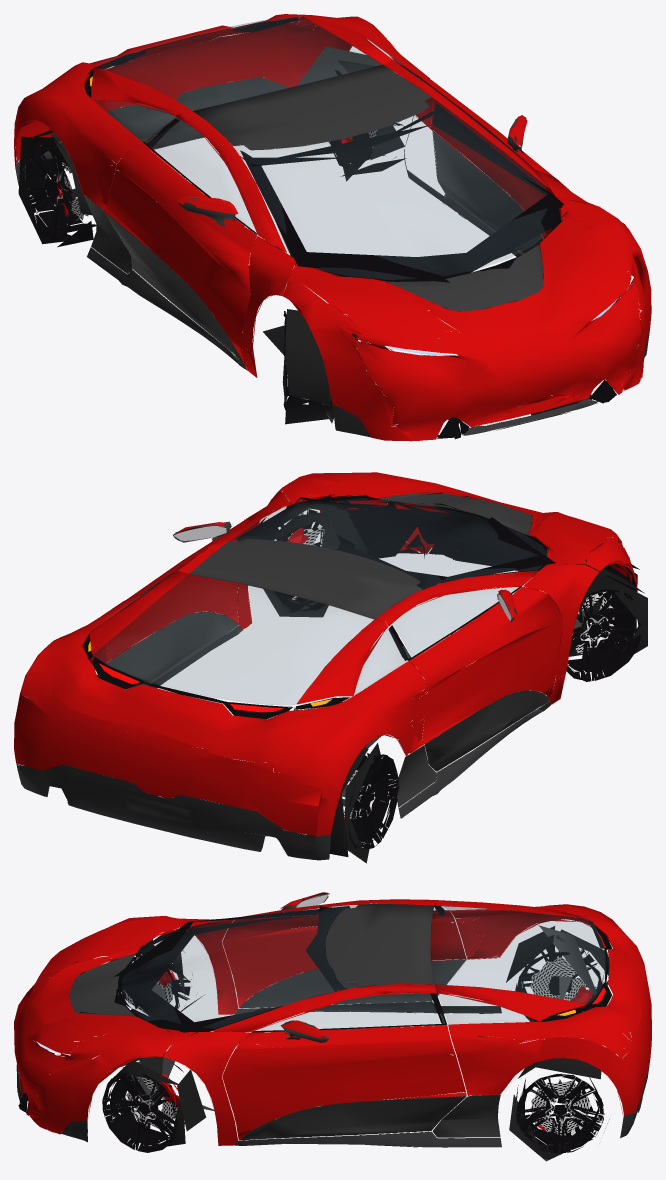
File: car-low.glb
The picture shows the model from 3 angles, top to bottom: view 1: azimuth 30°, elevation 25°; view 2: azimuth 150°, elevation 25°; view 3: azimuth 270°, elevation 25°; orthographic projection. The views are drawn at different scales.
Visible parts, largest first — view 1: BodyHood, BodyWindshield, BodyRearPanelsColor1, BodyRearwindow, BodyDoorRColor1, BodyRoofPanel, BodyWindshieldGasket, BodyPanelsColor2, BodyPillars, BodyHoodTopgrill, BodyDoorLColor2, WheelFrontR (+11 smaller); view 2: BodyRearPanelsColor1, BodyRearwindow, BodyPanelsColor2, BodyWindshield, BodyDoorRColor1, BodyRoofPanel, BodyHood, BodyPillars, BodyHoodInterior01, BodyWindshieldGasket, BodyDoorLColor1, WheelFrontRRim (+12 smaller); view 3: BodyRearPanelsColor1, BodyWindshield, BodyDoorLColor1, BodyHood, BodyRearwindow, BodyPillars, BodyRoofPanel, BodyPanelsColor2, BodyDoorRColor1, BodyWindshieldGasket, BodyDoorLColor2, WheelRearLRim (+17 smaller).
Boxes of the visible parts, x1,y1,x2,y2 form: BodyHood: (283,197,651,441); BodyWindshield: (233,98,547,279); BodyRearPanelsColor1: (14,14,434,210); BodyRearwindow: (94,16,381,110); BodyDoorRColor1: (104,142,257,362); BodyRoofPanel: (193,65,431,150); BodyWindshieldGasket: (240,103,567,283); BodyPanelsColor2: (15,77,650,437); BodyPillars: (176,60,596,377); BodyHoodTopgrill: (387,244,543,311); BodyDoorLColor2: (433,131,543,271); WheelFrontR: (282,309,333,424); BodyRearPanelsColor1: (14,571,425,836); BodyRearwindow: (92,574,373,704); BodyPanelsColor2: (16,570,636,860); BodyWindshield: (229,497,547,588); BodyDoorRColor1: (409,587,562,743); BodyRoofPanel: (189,539,422,619); BodyHood: (278,472,637,592); BodyPillars: (174,490,598,704); BodyHoodInterior01: (295,481,639,636); BodyWindshieldGasket: (235,497,555,589); BodyDoorLColor1: (105,519,250,663); WheelFrontRRim: (559,589,641,681); BodyRearPanelsColor1: (435,900,651,1115); BodyWindshield: (122,905,357,1028); BodyDoorLColor1: (222,1024,466,1139); BodyHood: (14,916,196,1134); BodyRearwindow: (431,906,605,1004); BodyPillars: (163,899,436,1145); BodyRoofPanel: (325,904,434,987); BodyPanelsColor2: (16,957,651,1147); BodyDoorRColor1: (222,910,466,1007); BodyWindshieldGasket: (114,906,350,1035); BodyDoorLColor2: (239,1096,466,1140); WheelRearLRim: (516,1073,604,1153).
Bounding box in the file's own units: 2.55 × 1.17 × 4.36.
15 materials, 4 textured.
